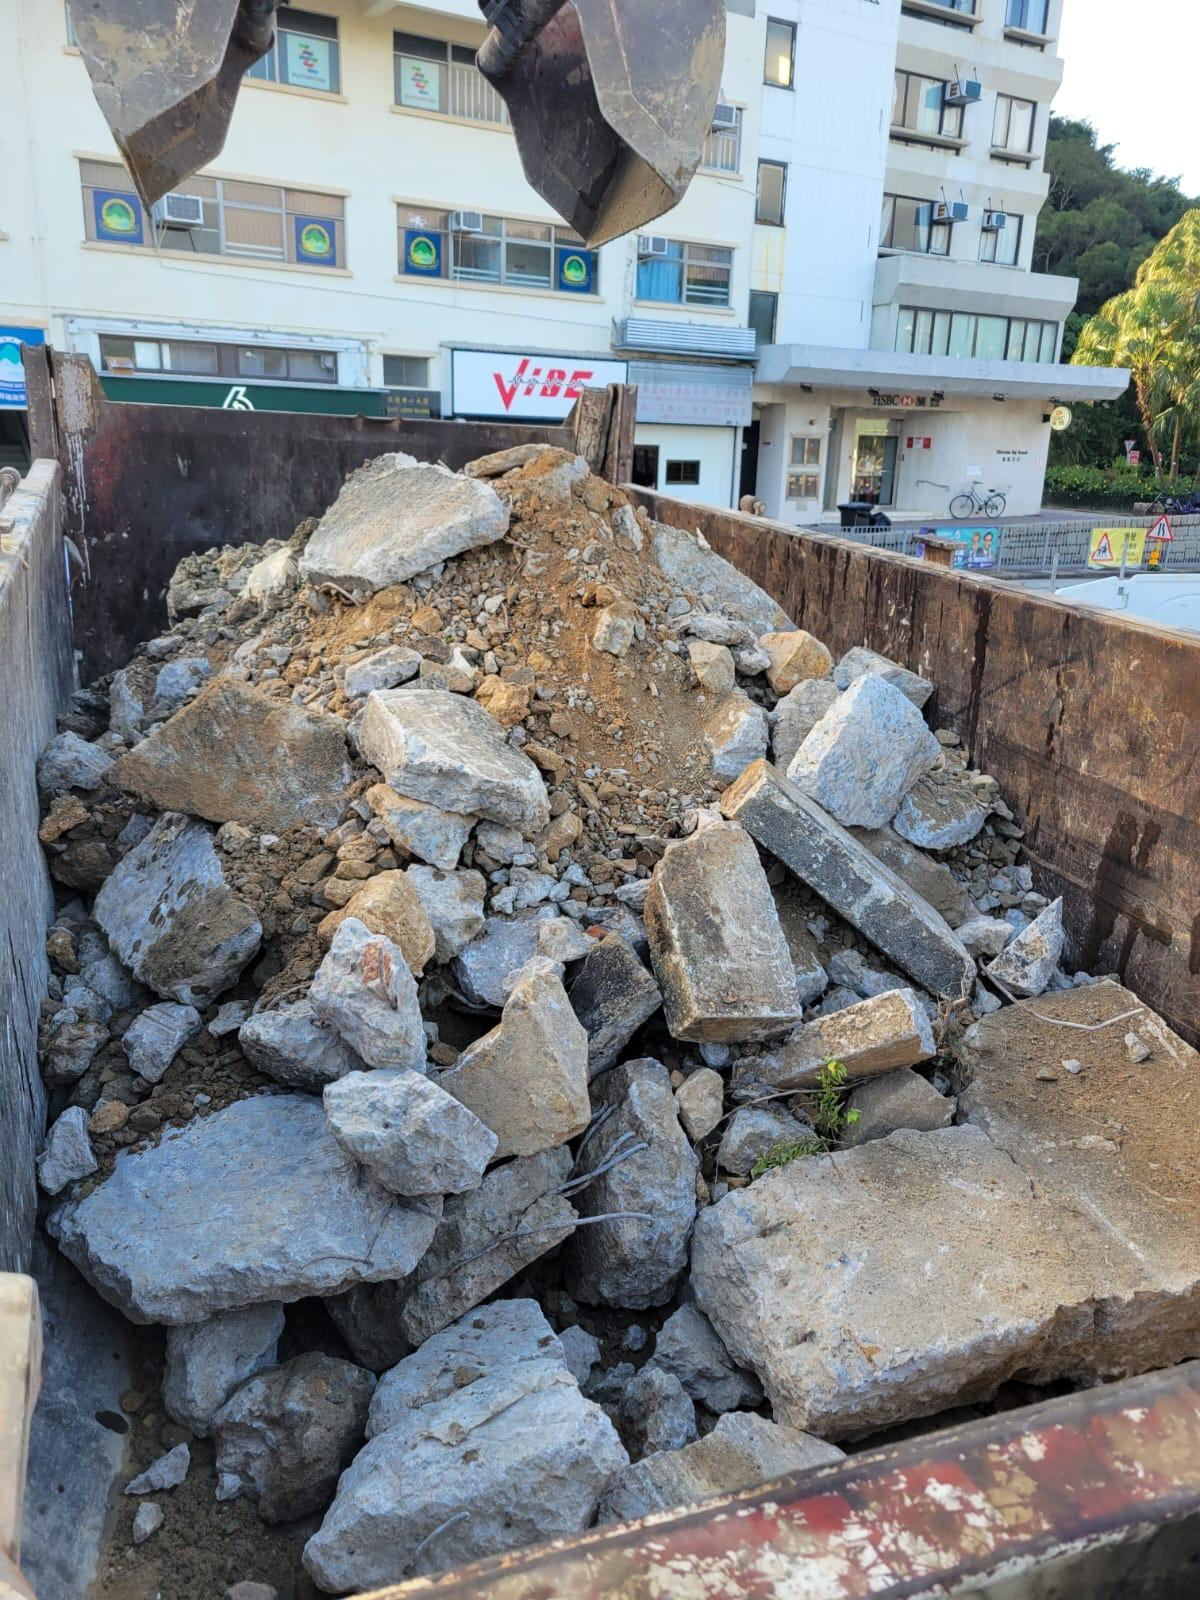dry: (45, 452, 1192, 1587)
